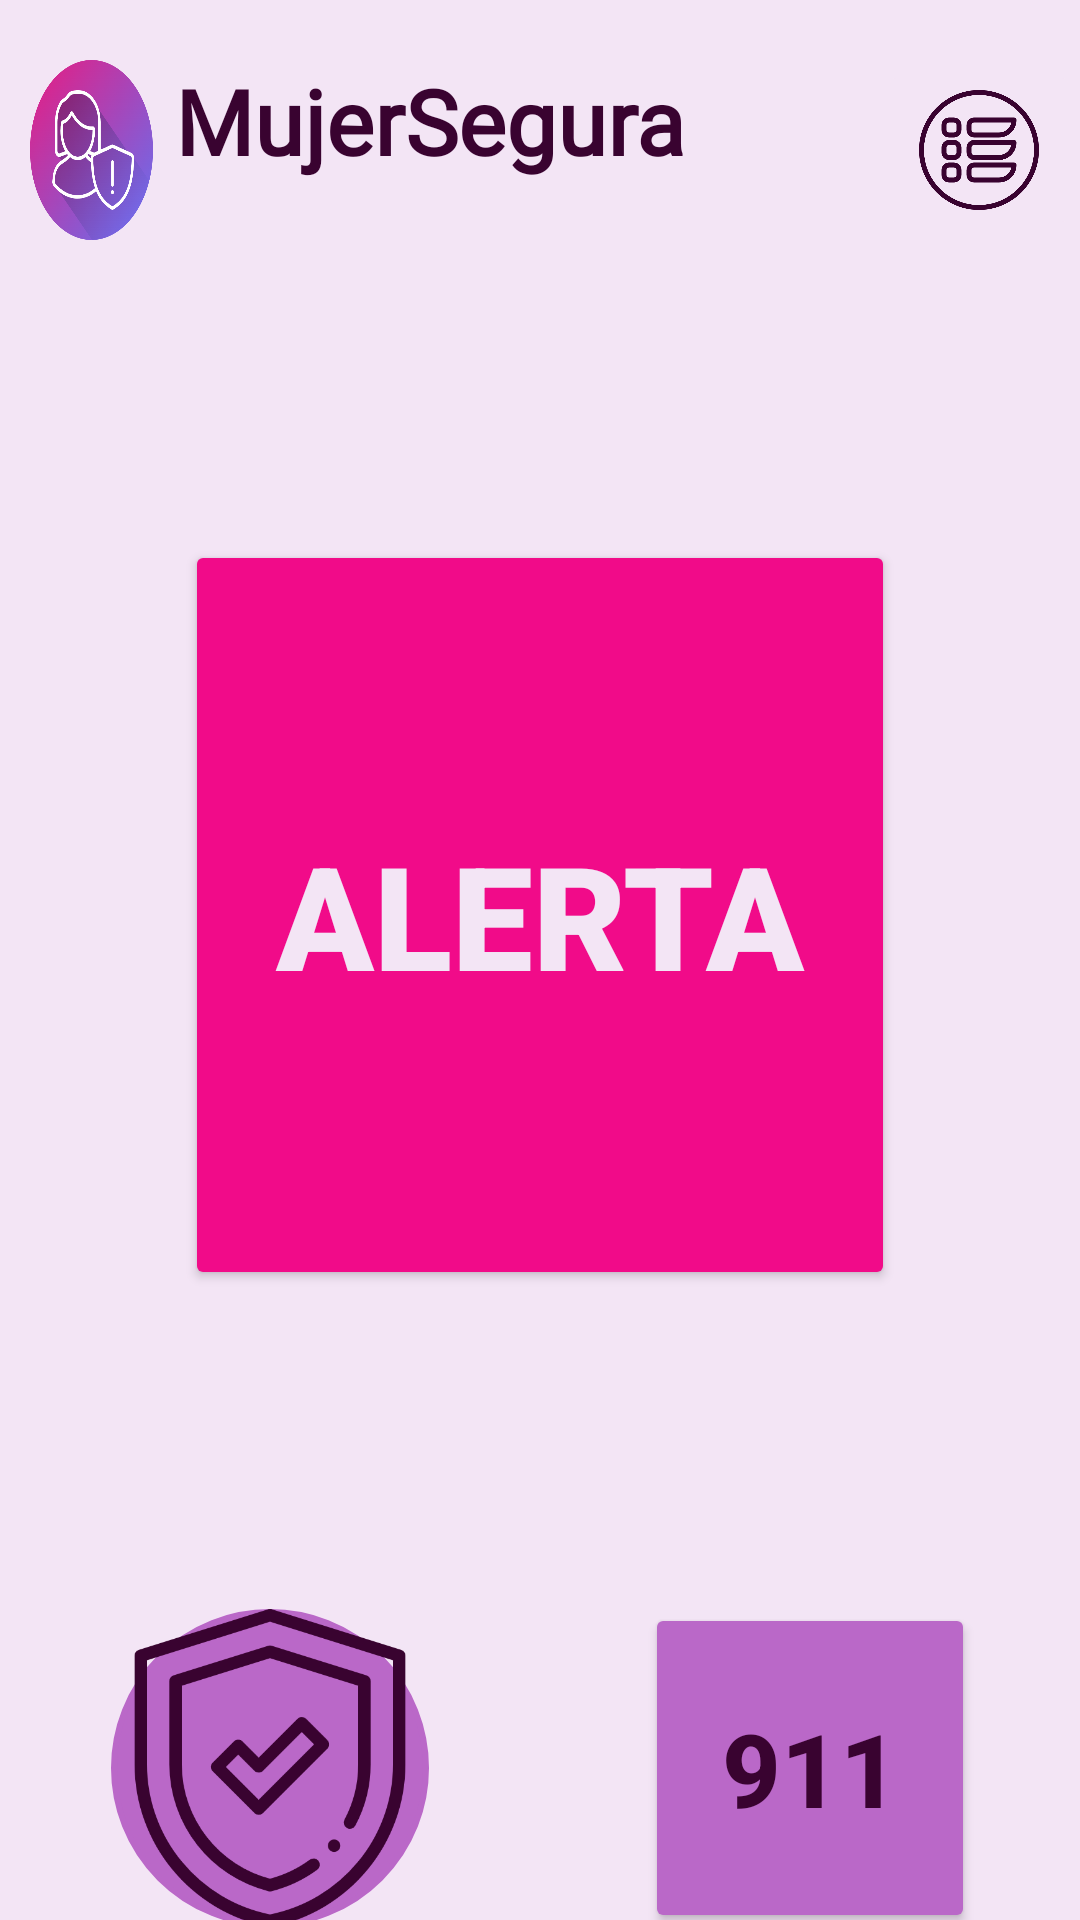

Where to tap for icons on this 1080×1920 app screen, as point (x, y):
Menu desplegable: point (979, 150)
